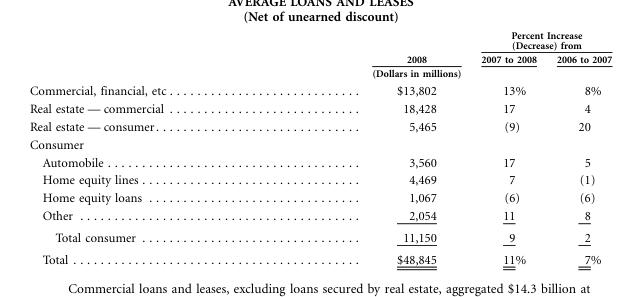table: (28, 29, 611, 265)
table column: (28, 29, 268, 265), (268, 29, 470, 265), (470, 29, 545, 265), (545, 29, 611, 265)
table column header: (28, 29, 611, 81)
table projected row header: (28, 135, 611, 153)
table row: (28, 52, 611, 81), (28, 29, 611, 52), (28, 226, 611, 248), (28, 206, 611, 226), (28, 81, 611, 99), (28, 99, 611, 117), (28, 117, 611, 135), (28, 135, 611, 153), (28, 170, 611, 188), (28, 188, 611, 206), (28, 153, 611, 170), (28, 248, 611, 265)
table spanning cell: (268, 29, 470, 81), (470, 29, 611, 52)
